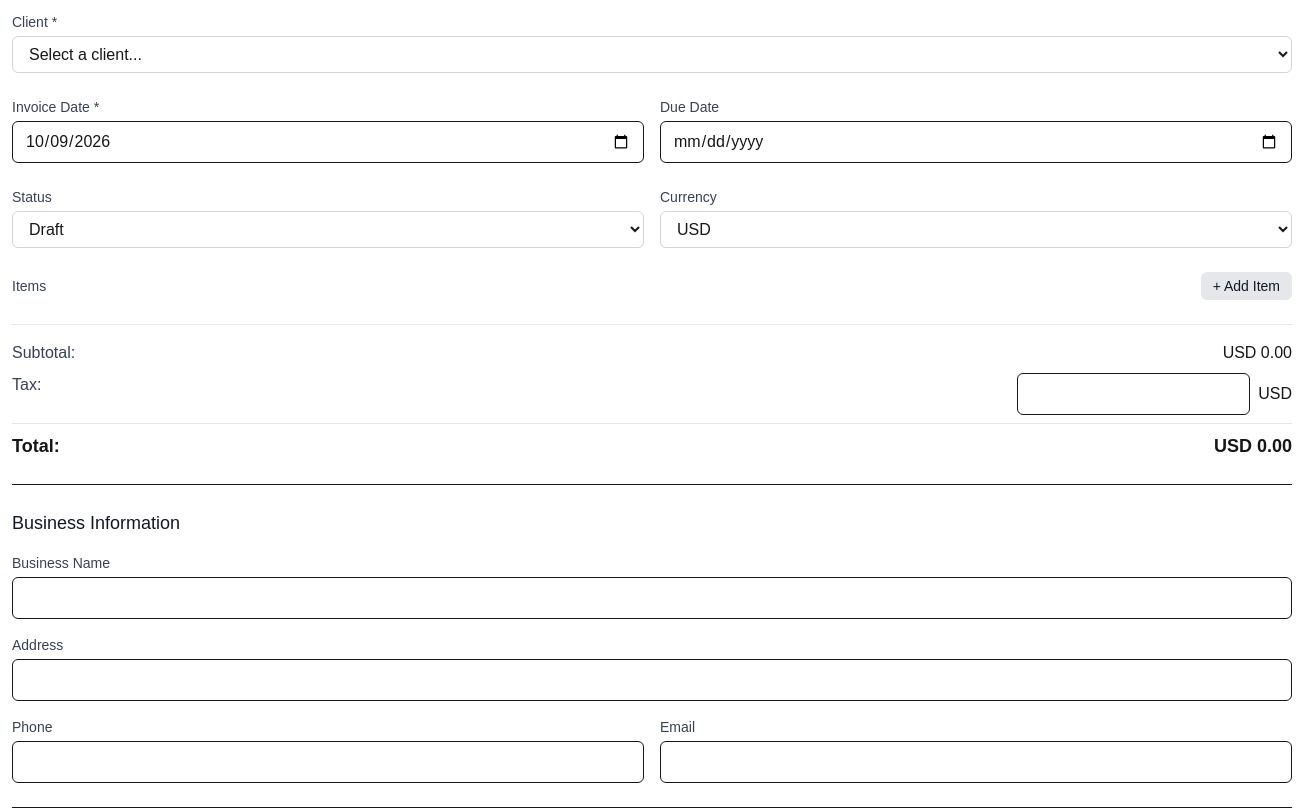
Test: InvoiceForm › handles instrument selection and auto-fills description and rate
Click the button "+ Add Item" at x=1246, y=286, box [1201,272,1292,300]
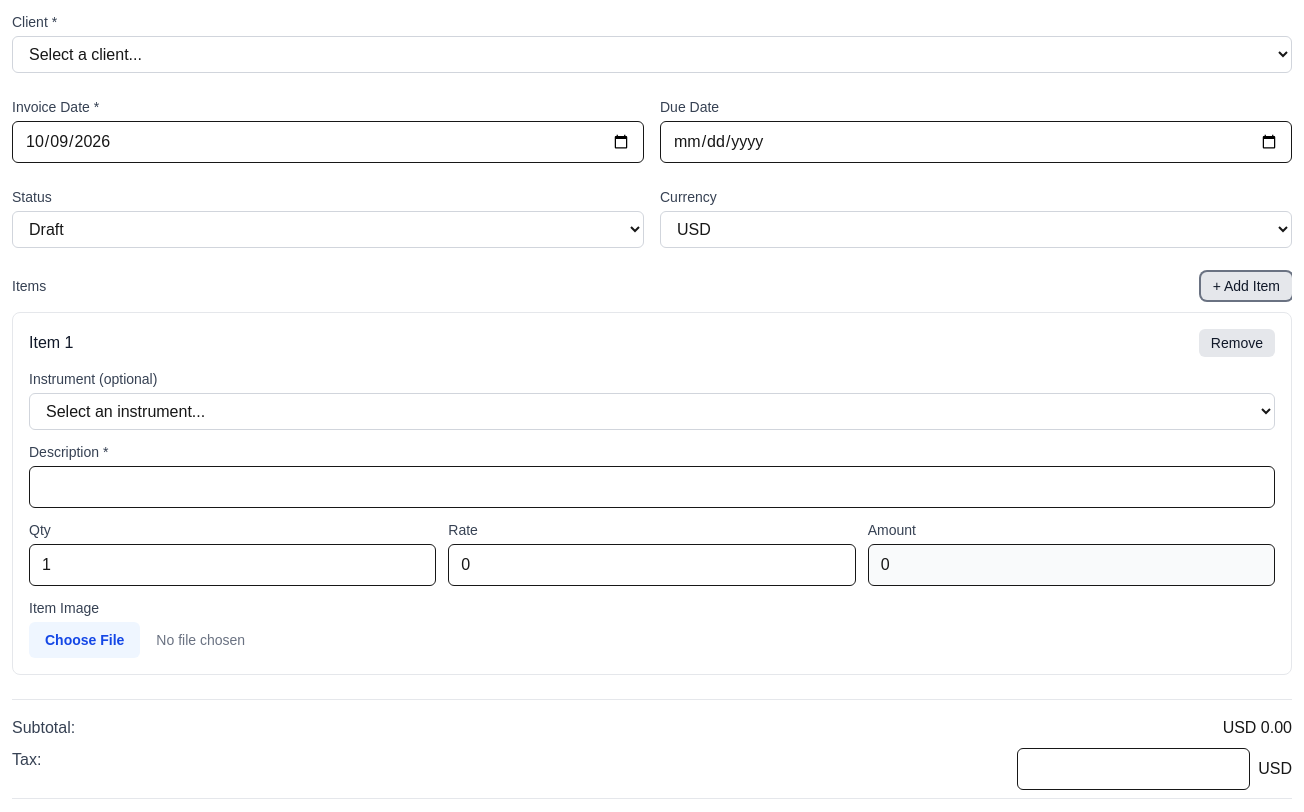
Expected: the 4th dropdown is shown
Select "VI0000001 - Stradivarius Violin" in the 4th dropdown at x=652, y=412, box [29,393,1275,430]
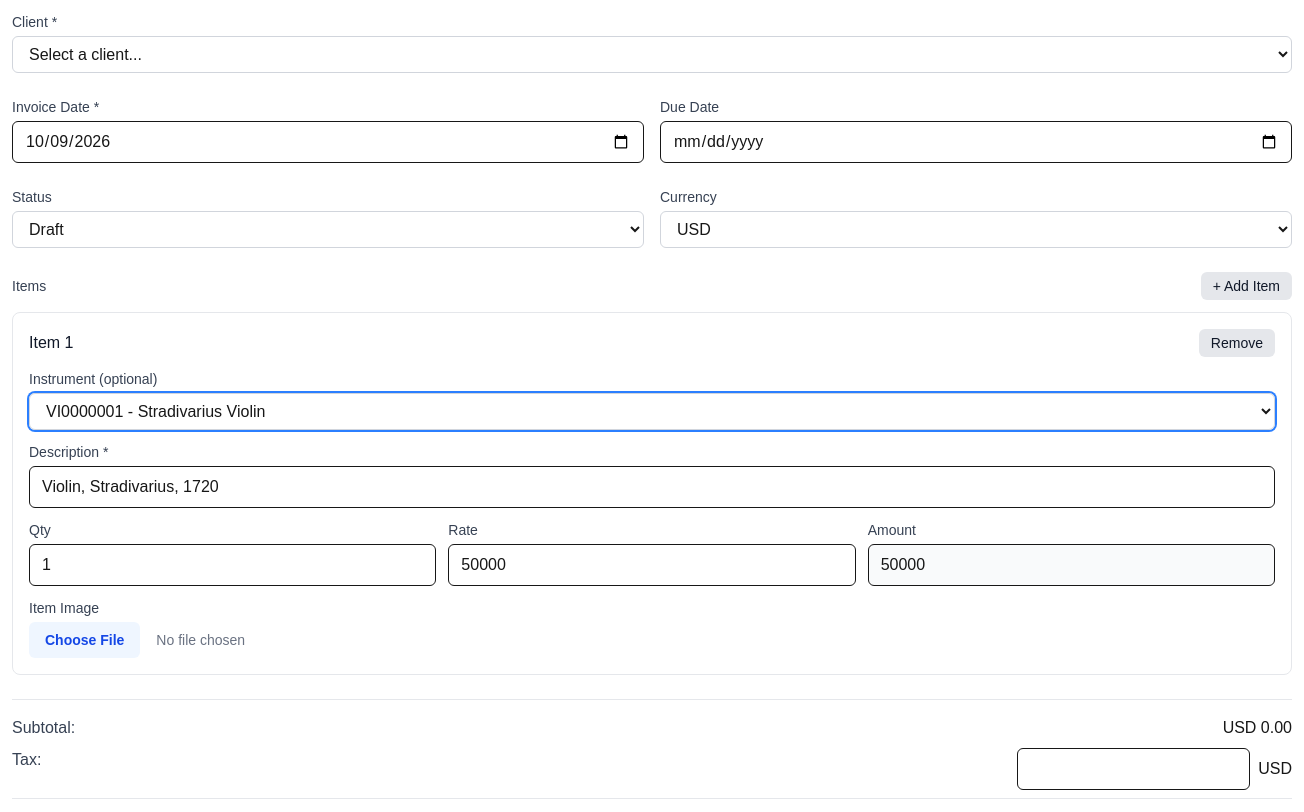
Expected: the field is shown, [29,466,1275,508]
Expected: the 2nd number field holds "50000", [448,544,856,586]
